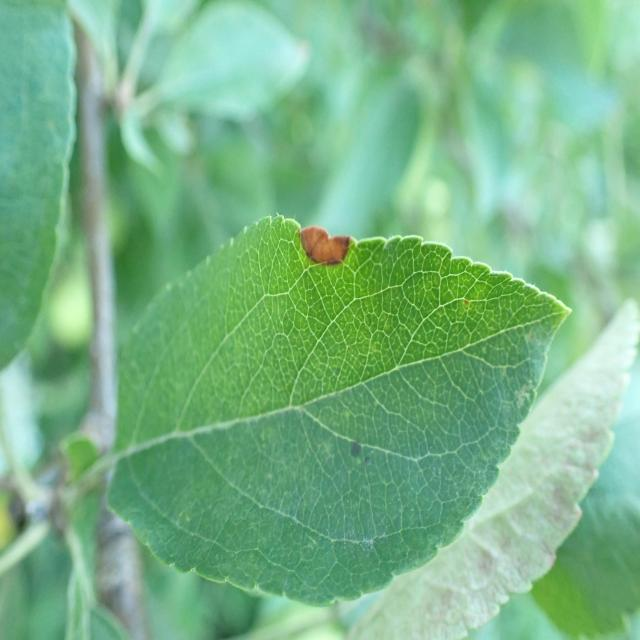Black Rot: (283, 208, 362, 276)
